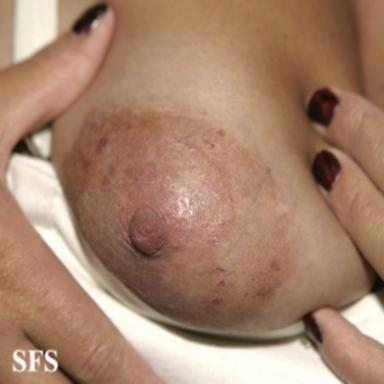Tinea-Corporis: (77, 123, 234, 313)
